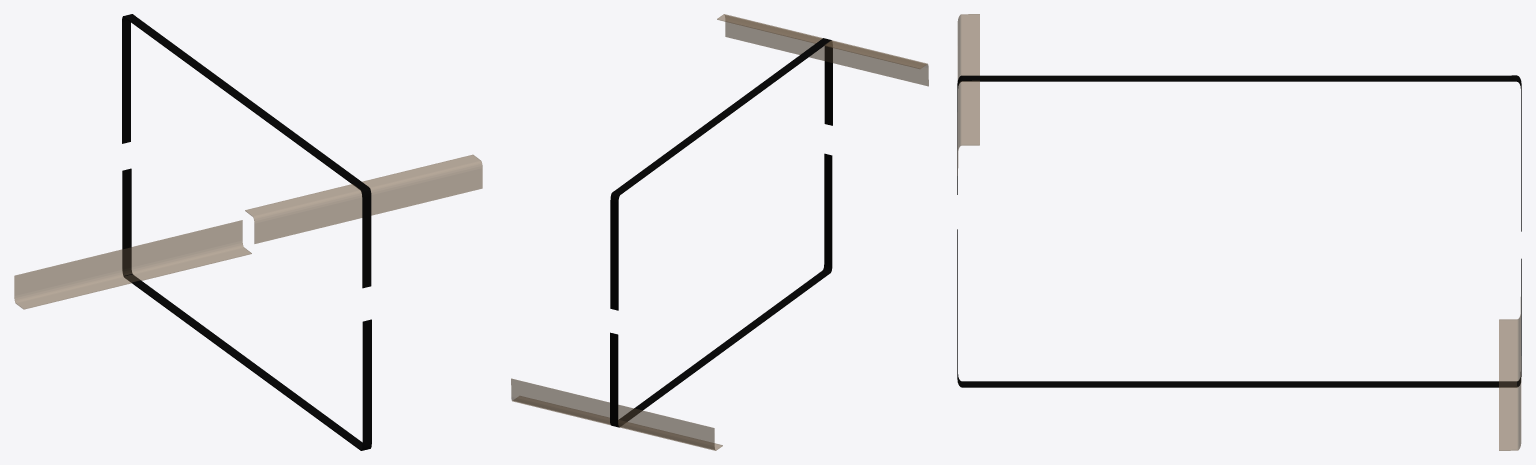
The model's file is tape_open_2.fbx.
3 views of the same model, side by side, from view 1: azimuth 30°, elevation 25°; view 2: azimuth 150°, elevation 25°; view 3: azimuth 270°, elevation 25° (orthographic). The views are drawn at different scales.
Visible parts, largest first — view 1: tape_0.011, 평면.043, 평면.042; view 2: tape_0.011, 평면.043, 평면.042; view 3: tape_0.011, 평면.043, 평면.042.
Boxes of the visible parts, x1,y1,x2,y2 form: tape_0.011: [122, 14, 371, 450]; 평면.043: [14, 220, 251, 309]; 평면.042: [245, 154, 482, 243]; tape_0.011: [610, 38, 832, 427]; 평면.043: [511, 378, 722, 450]; 평면.042: [717, 14, 928, 86]; tape_0.011: [957, 75, 1521, 387]; 평면.043: [1499, 297, 1521, 450]; 평면.042: [957, 14, 979, 175].
Size of the model in its own units: 137 by 150 by 251.
